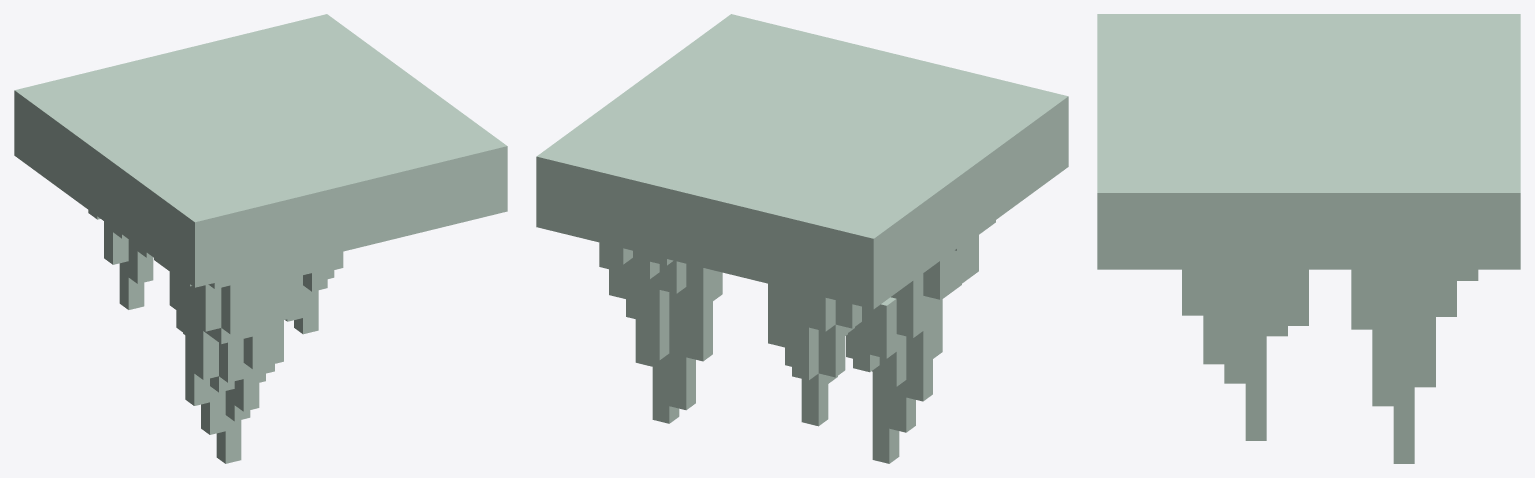
File: Floors-9.obj
3 views of the same model, side by side, from view 1: azimuth 30°, elevation 25°; view 2: azimuth 150°, elevation 25°; view 3: azimuth 270°, elevation 25° (orthographic). The views are drawn at different scales.
Size of the model in its own units: 2 by 1.9 by 2.
Materials: 1 (1 with a texture image).
